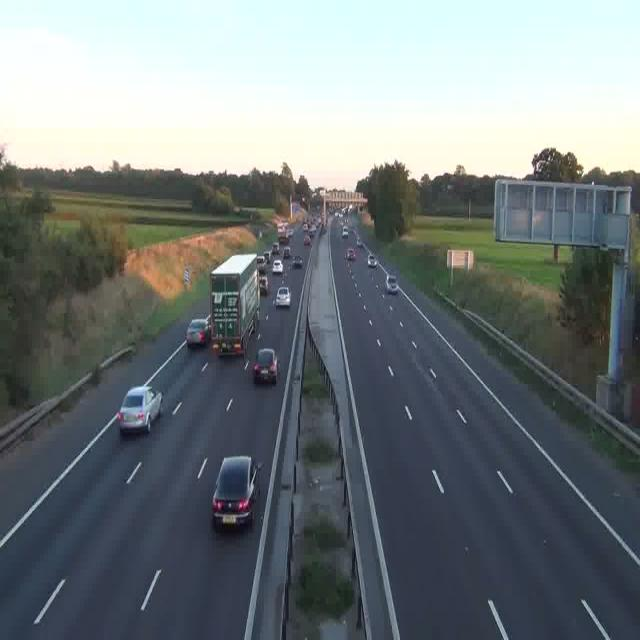car: (212, 456, 258, 530), (118, 385, 162, 435), (254, 349, 278, 384), (186, 316, 211, 346), (275, 287, 291, 309), (386, 274, 398, 293), (256, 253, 267, 272), (270, 258, 282, 274), (292, 252, 302, 266), (367, 253, 377, 266), (347, 249, 356, 262), (305, 233, 313, 244), (304, 234, 310, 245)
truck: (210, 254, 262, 358), (278, 222, 290, 247)
